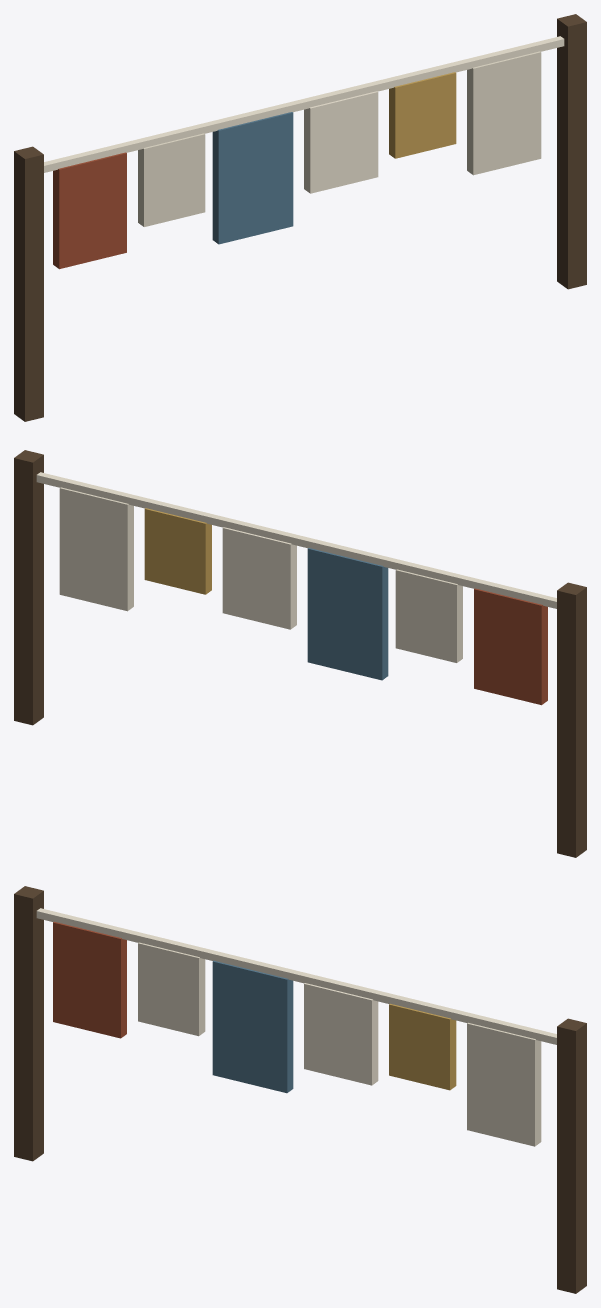
The model's file is garden-washing-line.glb.
3 views of the same model, one above another, from view 1: azimuth 30°, elevation 25°; view 2: azimuth 150°, elevation 25°; view 3: azimuth 330°, elevation 25° (orthographic).
Visible parts, largest first — view 1: garden-washing-line; view 2: garden-washing-line; view 3: garden-washing-line.
Boxes of the visible parts, left/top/right/bottom form: garden-washing-line: left=14, top=14, right=586, bottom=421; garden-washing-line: left=14, top=450, right=586, bottom=857; garden-washing-line: left=14, top=886, right=586, bottom=1293.
Bounding box in the file's own units: 4.14 × 1.85 × 0.14.
1 material, 1 textured.
